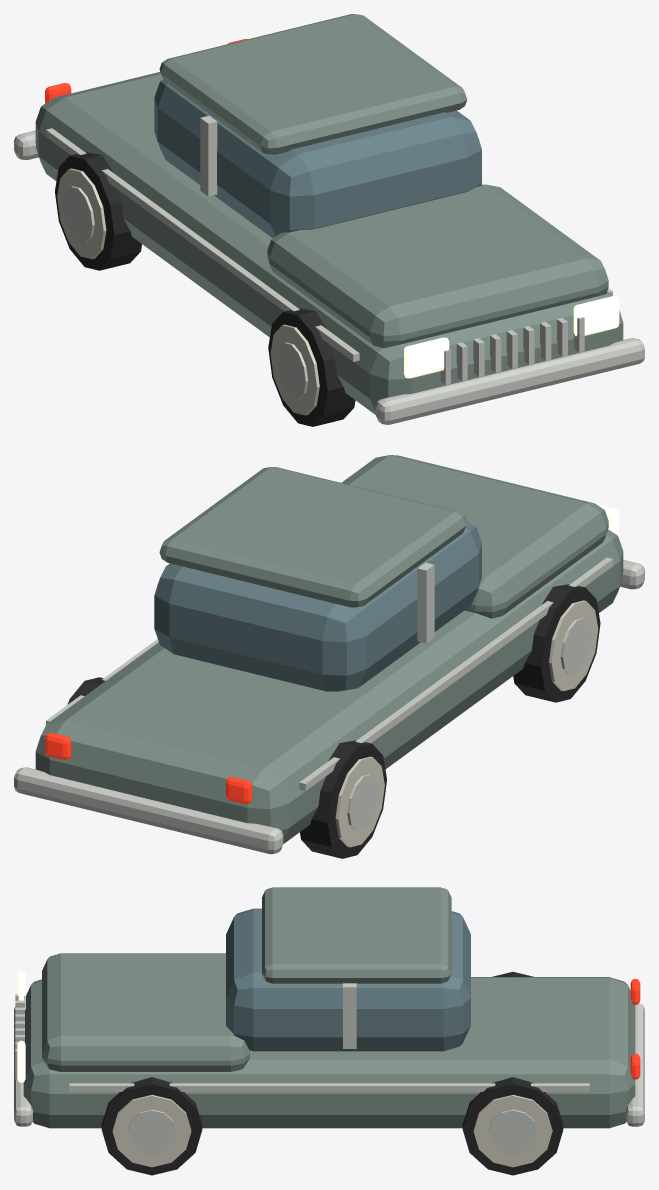
The model's file is ford.glb.
3 renders of one model, top to bottom at view 1: azimuth 30°, elevation 25°; view 2: azimuth 150°, elevation 25°; view 3: azimuth 270°, elevation 25°, orthographic. The views are drawn at different scales.
Parts seen in each view (by area): view 1: chassis, cabin glass, centre pillar, wheel, whitewall, headlight; view 2: chassis, cabin glass, centre pillar, wheel, whitewall, tail lamp; view 3: chassis, cabin glass, centre pillar, wheel, whitewall, headlight, tail lamp.
Boxes of the visible parts, x1,y1,x2,y2 form: chassis: (35,14,623,414); cabin glass: (154,79,481,238); centre pillar: (14,115,644,424); wheel: (55,152,355,426); whitewall: (57,168,319,415); headlight: (404,296,619,378); chassis: (35,455,623,843); cabin glass: (154,521,481,691); centre pillar: (14,557,644,854); wheel: (67,584,600,858); whitewall: (335,600,598,847); tail lamp: (45,733,252,803); chassis: (23,887,635,1128); cabin glass: (226,908,470,1051); centre pillar: (14,983,644,1154); wheel: (101,971,563,1175); whitewall: (112,1095,552,1167); headlight: (17,970,25,1082); tail lamp: (630,978,640,1079).
Bounding box in the file's own units: 2.06 × 1.57 × 4.64.
